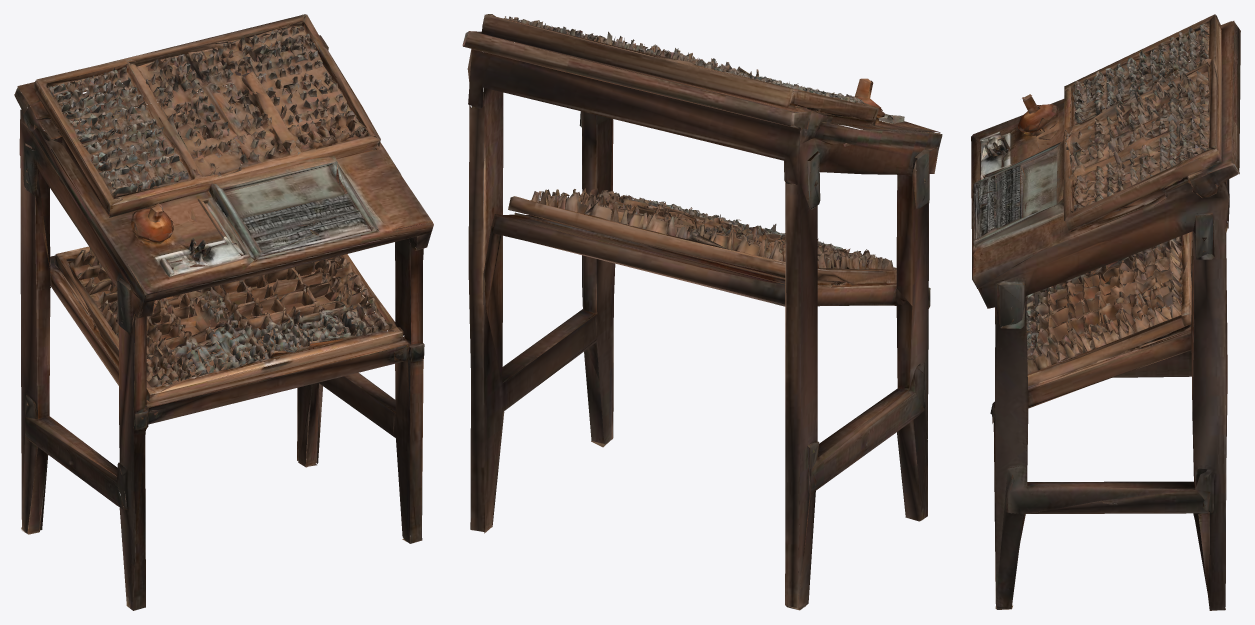
Rendered from printer-composition-workstation.glb.
The picture shows the model from 3 angles, left to right: view 1: azimuth 30°, elevation 25°; view 2: azimuth 150°, elevation 25°; view 3: azimuth 270°, elevation 25°; orthographic projection. The views are drawn at different scales.
Parts seen in each view (by area): view 1: Mesh_0; view 2: Mesh_0; view 3: Mesh_0.
Part boxes in pixels (x1,y1,x2,y2): Mesh_0: (14, 14, 433, 610); Mesh_0: (462, 14, 942, 610); Mesh_0: (971, 14, 1240, 610).
Size of the model in its own units: 1.32 by 1.9 by 1.01.
Materials: 1 (1 with a texture image).
